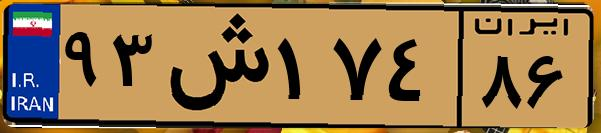1: (270, 28, 330, 110)
3: (110, 28, 158, 98)
4: (385, 28, 445, 110)
6: (525, 38, 570, 115)
7: (330, 28, 385, 110)
8: (475, 38, 525, 113)
9: (57, 26, 110, 100)
ش: (158, 12, 270, 120)
